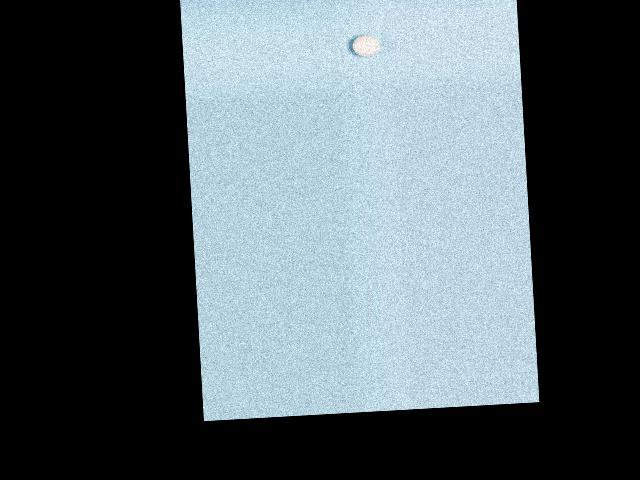egg: (351, 34, 381, 57)
